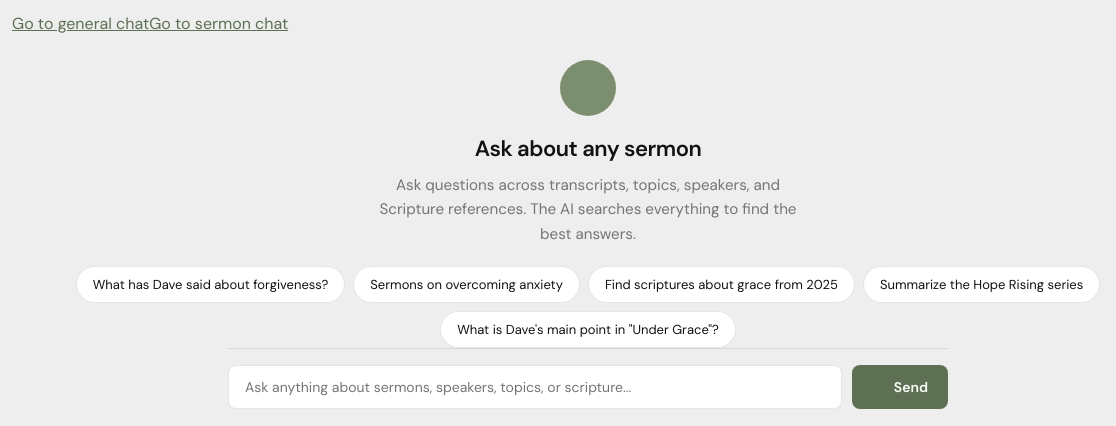
Test: shows the empty-state prompts on a general chat, and clicking one fills the input
Expected: the heading "Ask about any sermon" is shown, 475,132 -> 701,165
Click the button "What has Dave said about forgiveness?": (211, 284) 76,266 -> 345,303
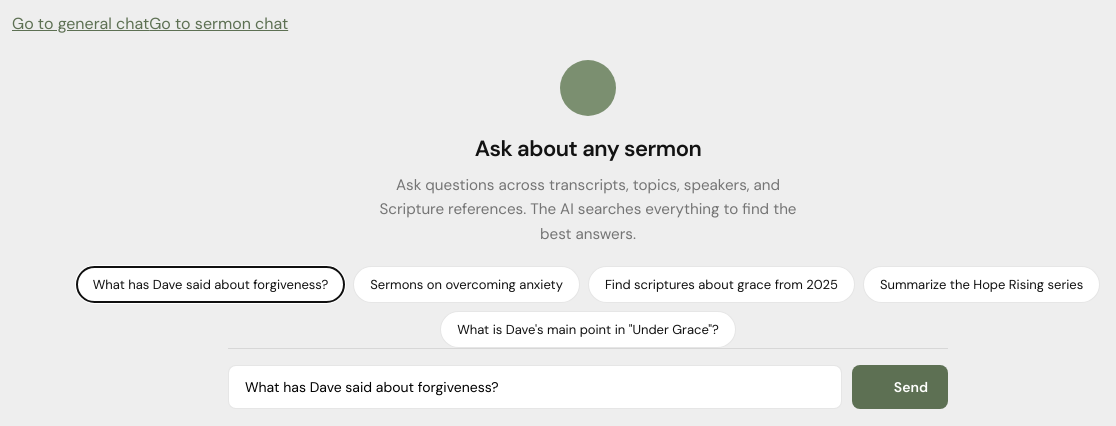
Expected: the field with placeholder "Ask anything about sermons, speakers, topics, or scripture..." holds "What has Dave said about forgiveness?", 228,365 -> 842,409
